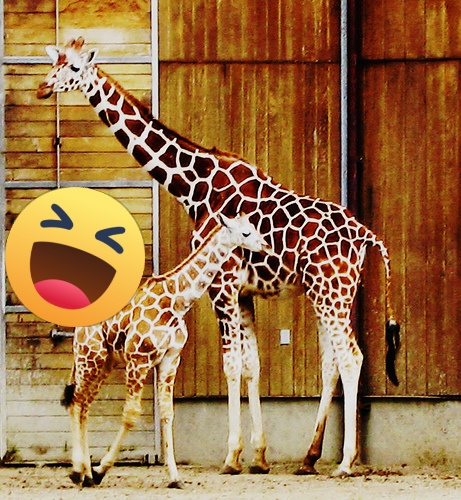haha: (5, 187, 145, 327)
